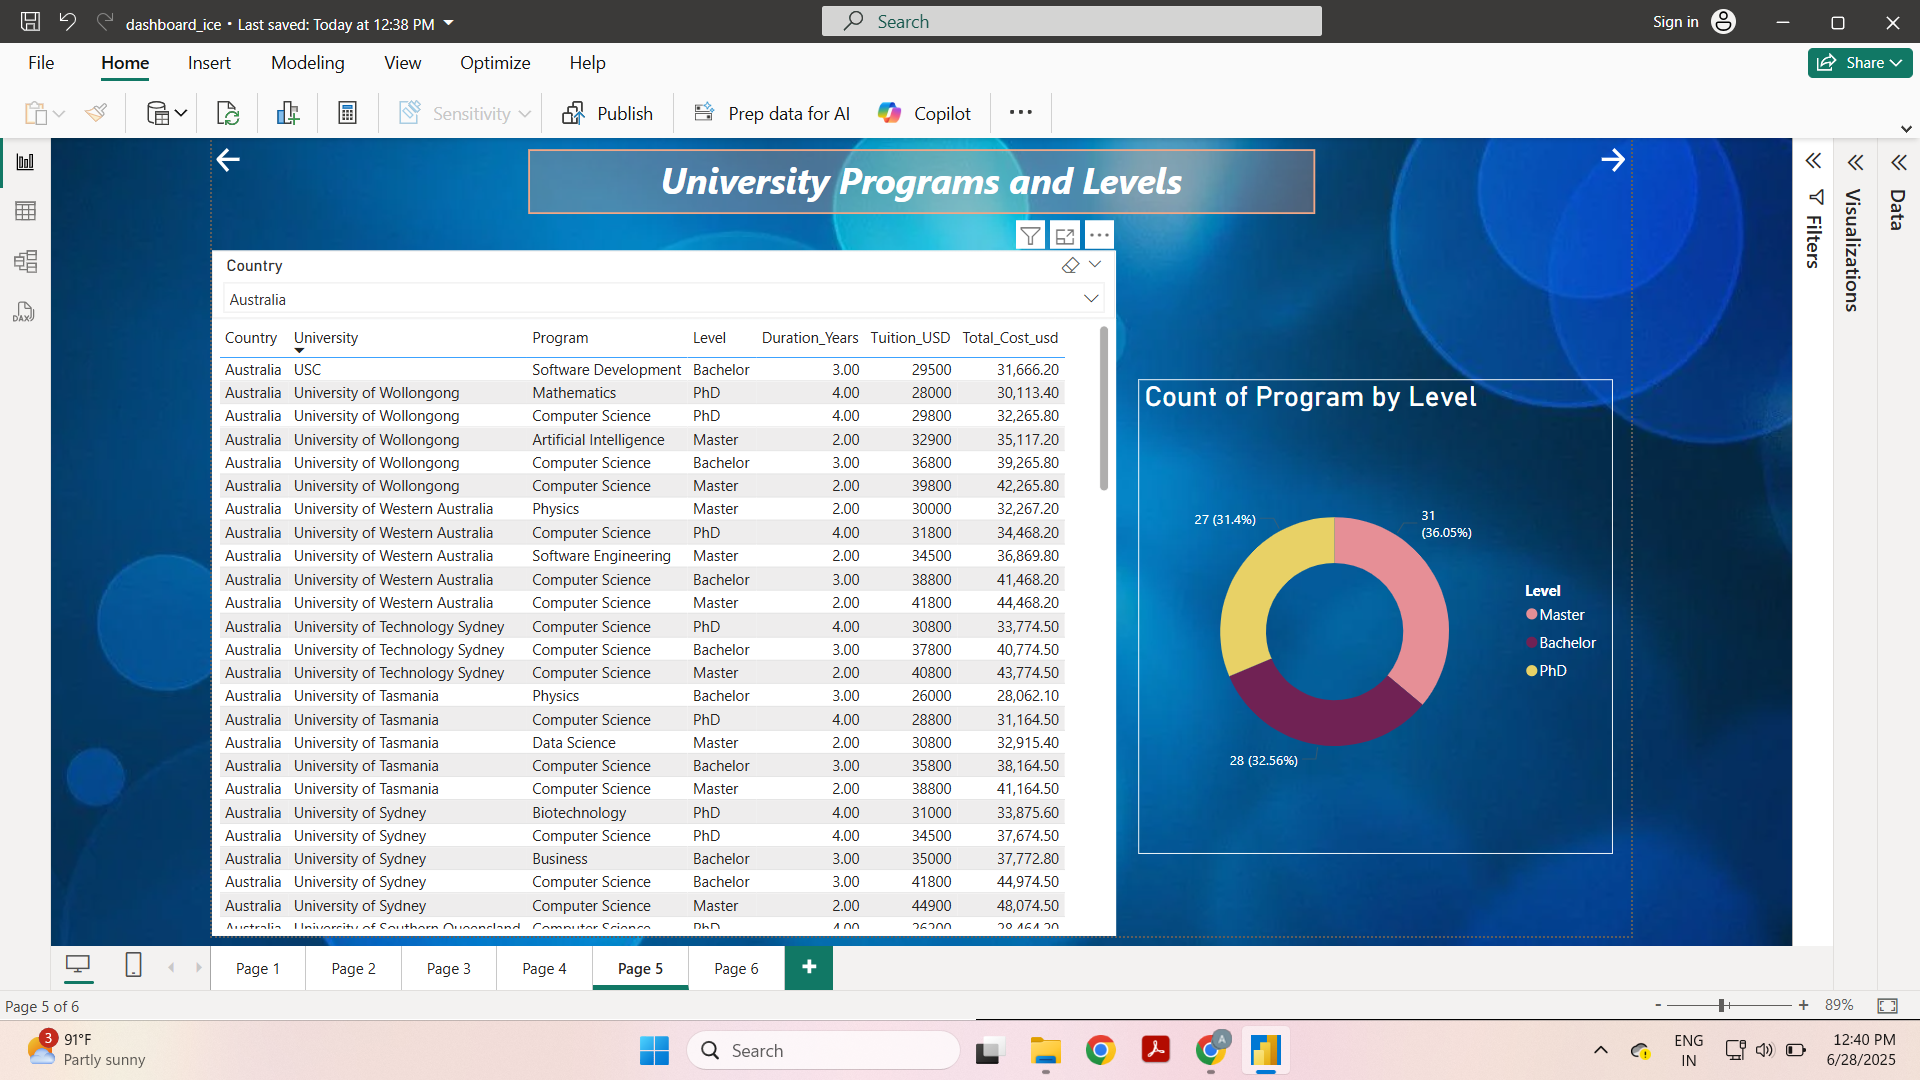

The dashboard page shown, as its layout file describes it:
{"tool":"powerbi","page":{"name":"Page 5","canvas":[1280,720],"ordinal":4},"visuals":[{"type":"tableEx","fields":{"Values":["international ed costs.Country","international ed costs.University","international ed costs.Program","international ed costs.Level","international ed costs.Duration_Years","international ed costs.Tuition_USD","international ed costs.Total_Cost"]},"box":[0,164,815.1,555.8],"z":0},{"type":"slicer","fields":{"Values":["international ed costs.Country"]},"box":[0,101.2,815.1,62.8],"z":1000},{"type":"donutChart","fields":{"Y":["CountNonNull(international ed costs.Program)"],"Category":["international ed costs.Level"]},"box":[834.9,217.4,427.9,427.9],"z":2000},{"type":"actionButton","box":[1247.7,0,30.2,39.5],"z":3000},{"type":"actionButton","box":[0,0,30.2,39.5],"z":4000},{"type":"textbox","box":[284.9,10.5,709.3,58.1],"z":5000}]}

Visuals, with their boxes on the page's 1280x720 design canvas (x1, y1, x2, y2). These are canvas units, not pixel positions in the 1920x1080 screenshot, which may show the page scaled, cropped or inside an application window:
tableEx - international ed costs.Country x international ed costs.University: x1=0 y1=164 x2=815 y2=720
slicer - international ed costs.Country: x1=0 y1=101 x2=815 y2=164
donutChart - CountNonNull(international ed costs.Program) x international ed costs.Level: x1=835 y1=217 x2=1263 y2=645
actionButton: x1=1248 y1=0 x2=1278 y2=40
actionButton: x1=0 y1=0 x2=30 y2=40
textbox: x1=285 y1=10 x2=994 y2=69
